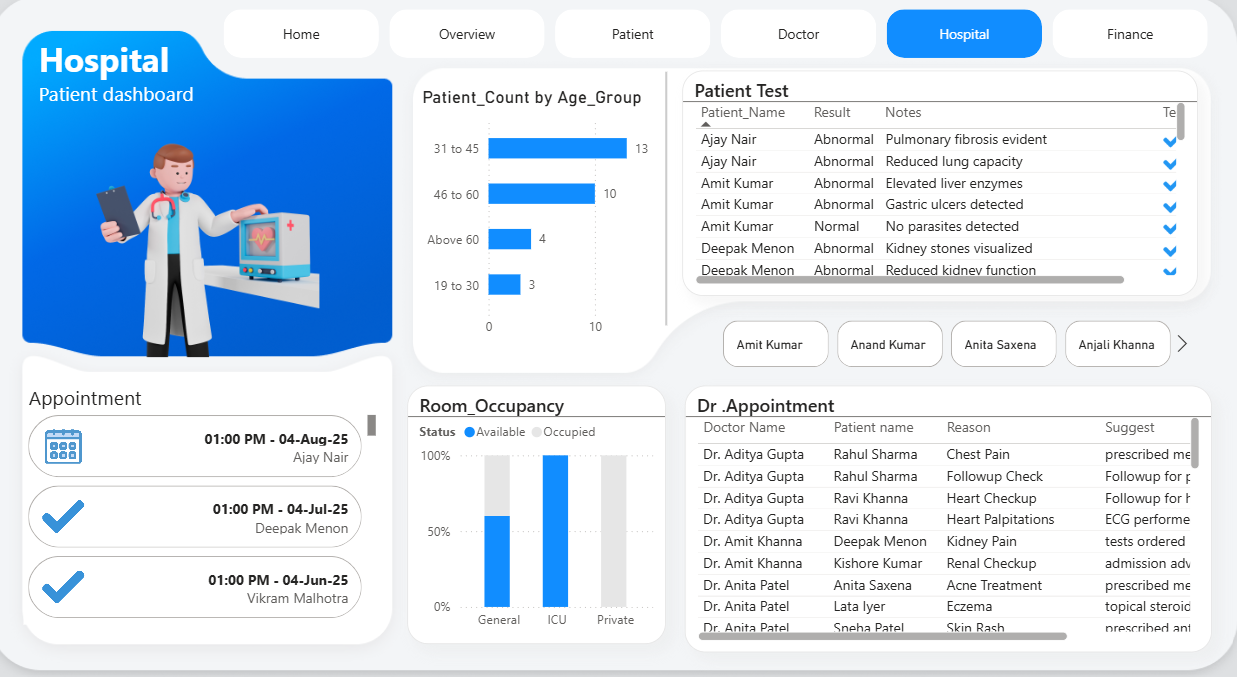

The page's visual inventory and layout, read from the dashboard file:
{"tool":"powerbi","page":{"name":"Hospital","canvas":[1280,720],"ordinal":4},"visuals":[{"type":"textbox","box":[79.5,66.8,361.1,84.3],"z":0},{"type":"advancedSlicerVisual","title":"Appointment","fields":{"Values":["patient.Surgery_Date_time"]},"box":[70,406.7,345,231.7],"z":1000},{"type":"tableEx","title":"Dr .Appointment","fields":{"Values":["patient.Doctor.name","patient.name","Appointment.reason","Appointment.suggest","Appointment.Icon_img"]},"box":[707.8,407.2,509,257.7],"z":2000},{"type":"shape","box":[671.7,105,36.7,245],"z":3000},{"type":"image","box":[70,148.3,345,236.7],"z":4000},{"type":"barChart","fields":{"Category":["patient.Age_Group"],"Y":["_Measures.Patient_Count"]},"box":[450.1,119.3,235.4,249.7],"z":5000},{"type":"tableEx","title":"Patient Test","fields":{"Values":["patient.name","Patient_Test.result","Patient_Test.notes","Patient_Test.Test_status_icon"]},"box":[706.2,103.4,497.9,217.9],"z":6000},{"type":"hundredPercentStackedColumnChart","title":"Room_Occupancy","fields":{"Y":["Count(Beds status.Count_Beds)"],"Series":["Beds status.status"],"Category":["Beds status.Rooms.room_type"]},"box":[440.6,407.2,249.7,249.7],"z":7000},{"type":"advancedSlicerVisual","fields":{"Values":["Staff.name"]},"box":[720.5,340.4,483.5,55.7],"z":8000},{"type":"pageNavigator","box":[262.5,44.5,956,47.7],"z":9000}]}

Visuals, with their boxes in screenshot pixels (x1, y1, x2, y2), scaled from the page's 1280x720 canvas onto the 1237x677 screenshot:
textbox: 77 63 426 142
"Appointment" advancedSlicerVisual: 68 382 401 600
"Dr .Appointment" tableEx: 684 383 1176 625
shape: 649 99 685 329
image: 68 139 401 362
barChart - patient.Age_Group x _Measures.Patient_Count: 435 112 662 347
"Patient Test" tableEx: 682 97 1164 302
"Room_Occupancy" hundredPercentStackedColumnChart: 426 383 667 618
advancedSlicerVisual - Staff.name: 696 320 1164 372
pageNavigator: 254 42 1178 87
